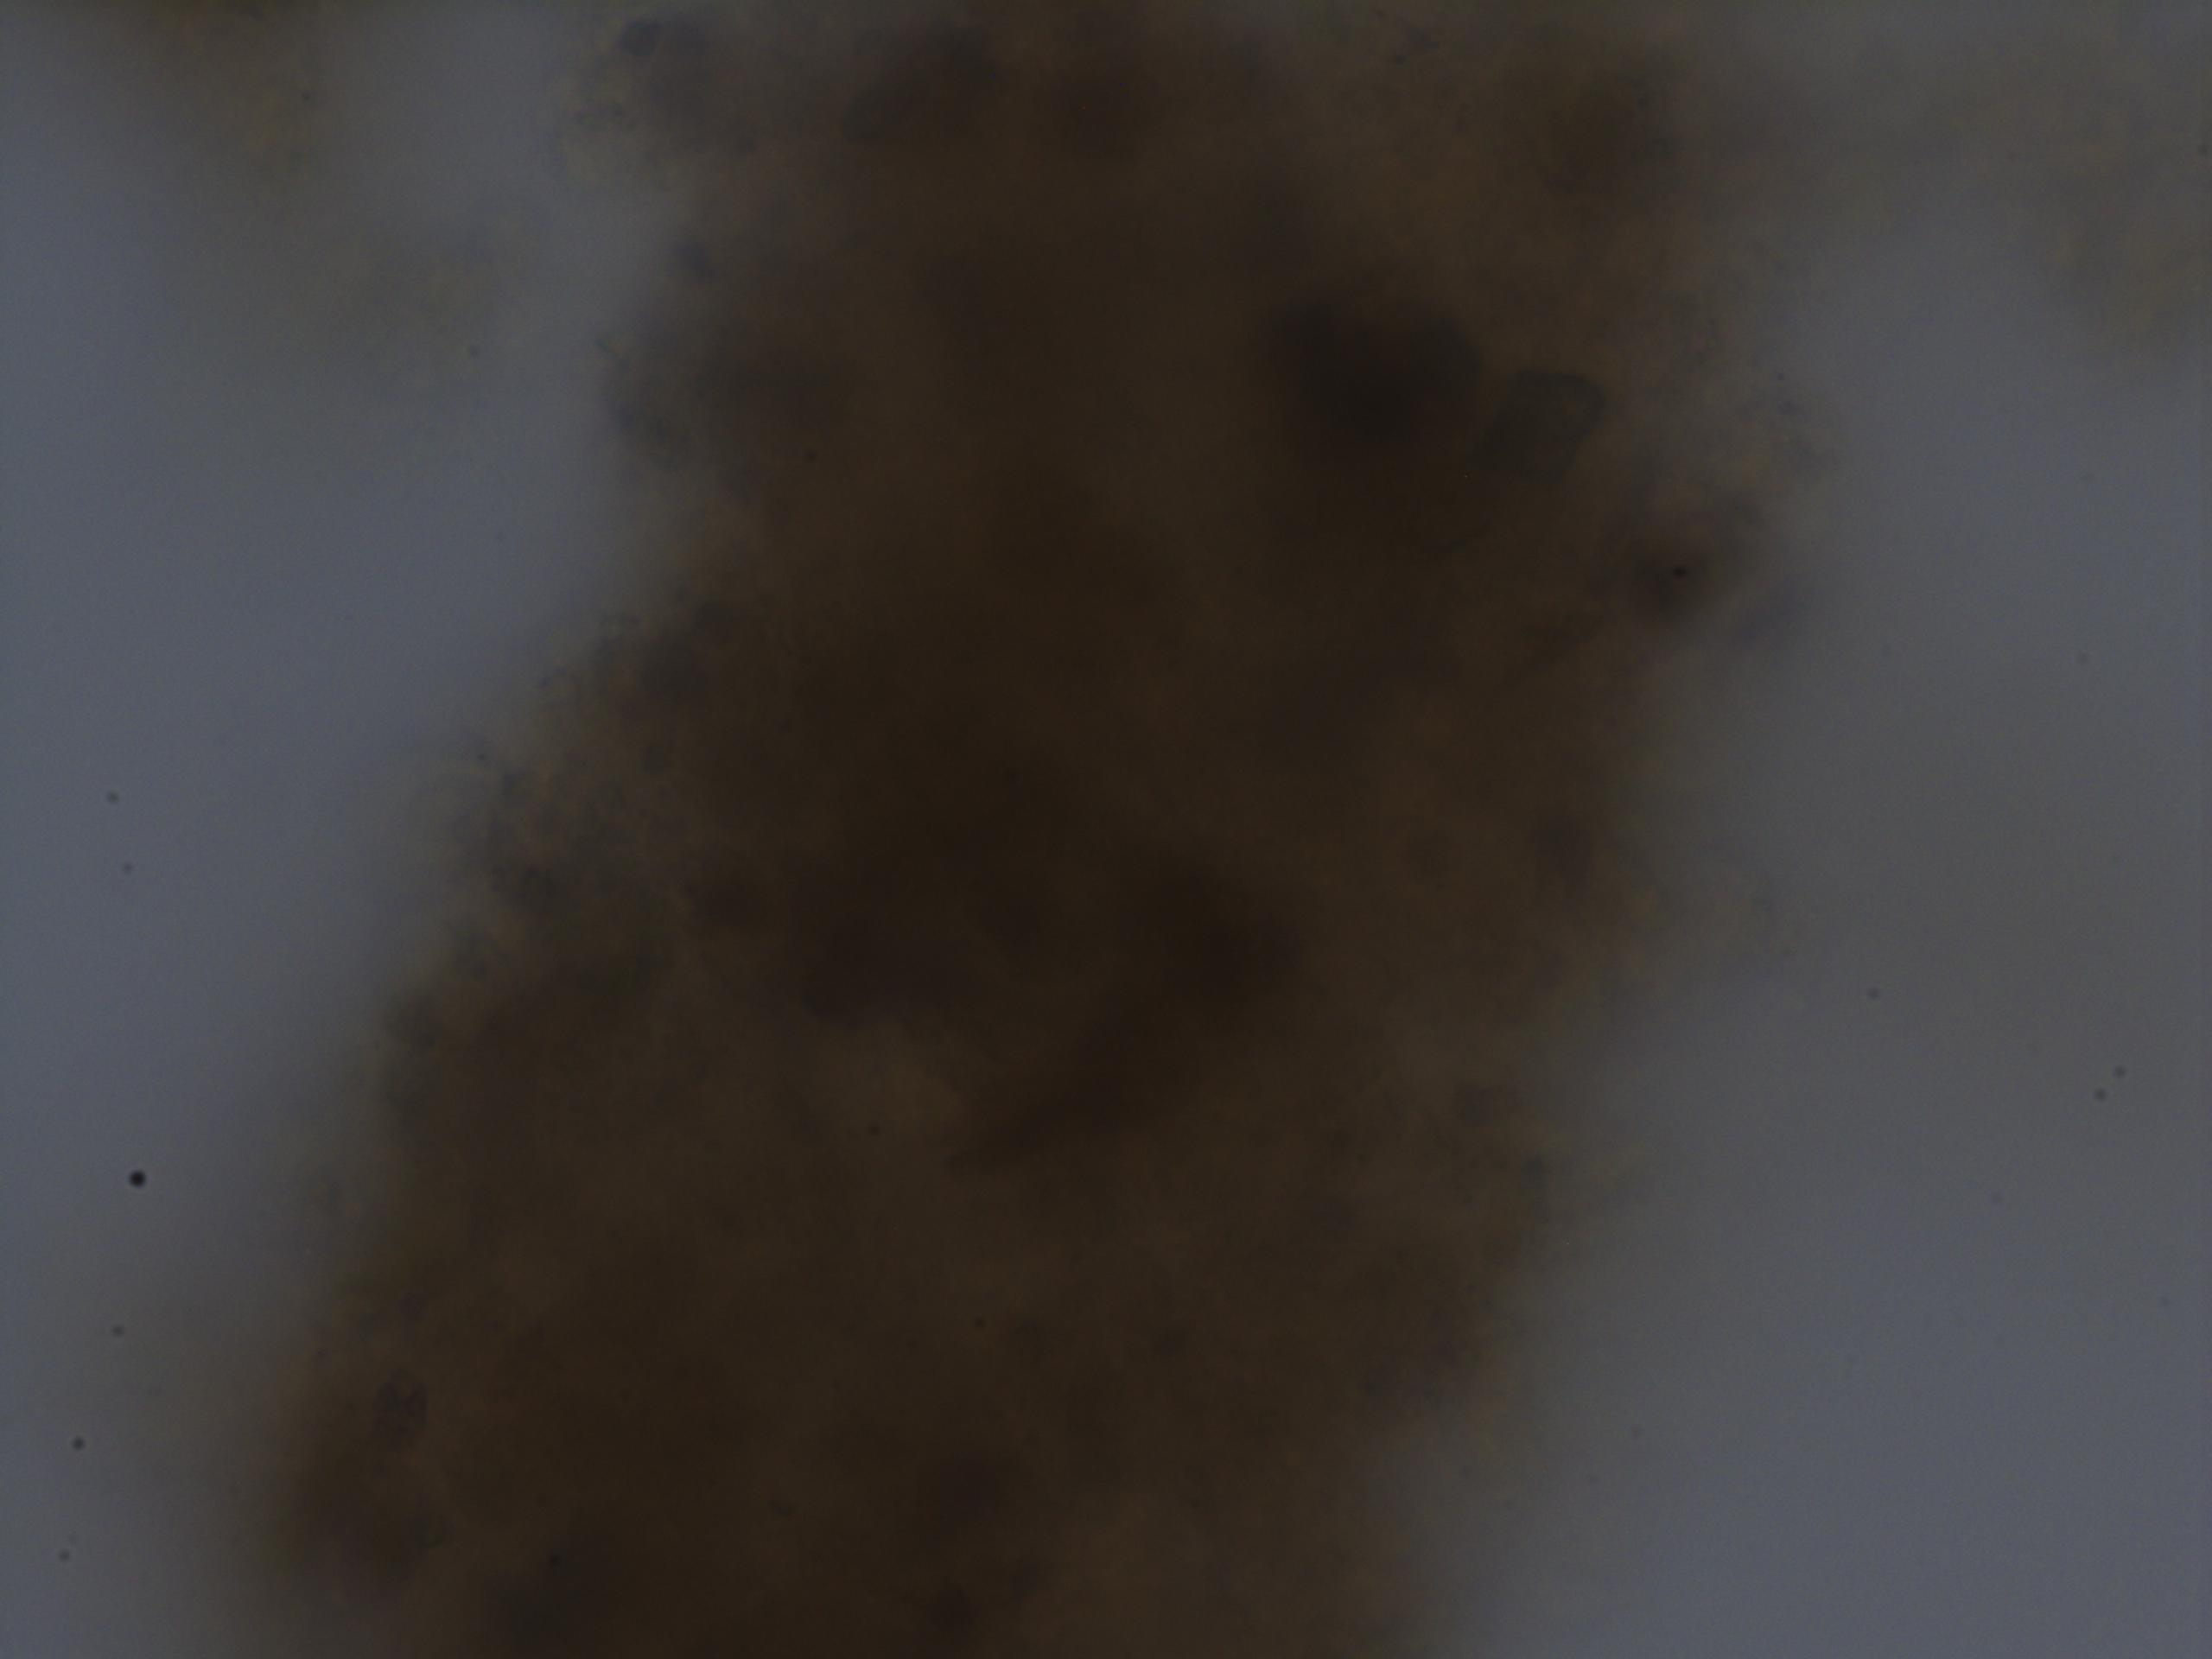spherical_floc: (219, 0, 1801, 1659)
